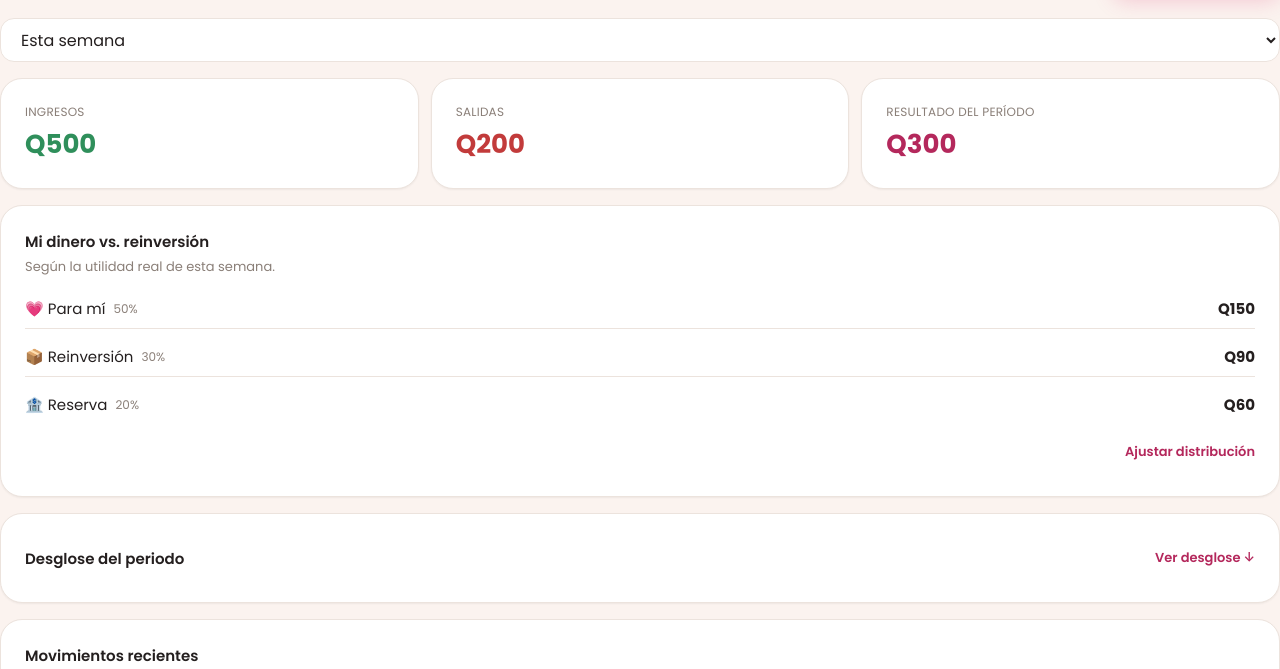
Test: FinancePage › el desglose está oculto por defecto y se puede expandir
This screenshot has width=1280, height=669.
Expected: the text "Ventas" is not shown
Click the button "Ver desglose ↓": (1205, 558) [1155, 538, 1255, 578]
(page scrolled)
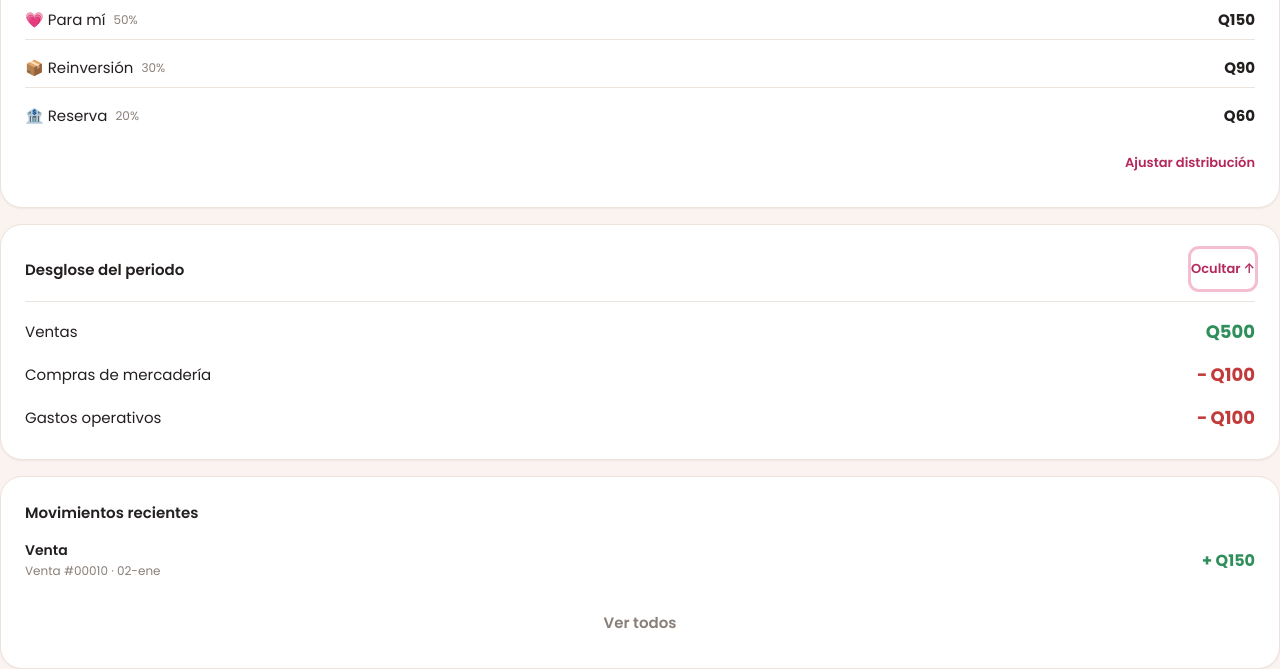
Now the text "Ventas" is shown, box [25, 320, 78, 343]
Now the text "Compras de mercadería" is shown, box [25, 363, 211, 386]
